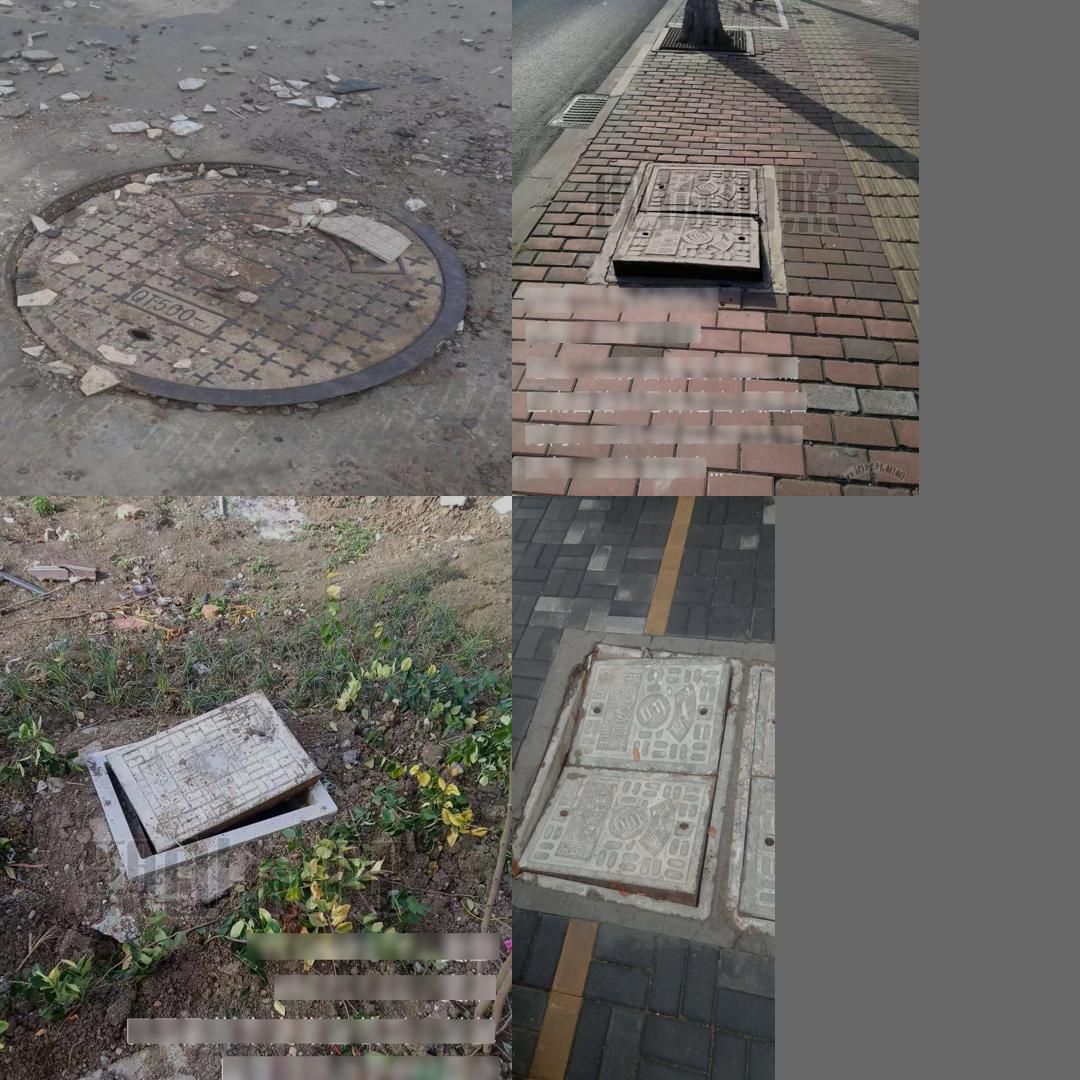uncovered: (5, 161, 467, 406), (514, 642, 743, 920), (82, 690, 340, 875), (605, 164, 774, 293)
